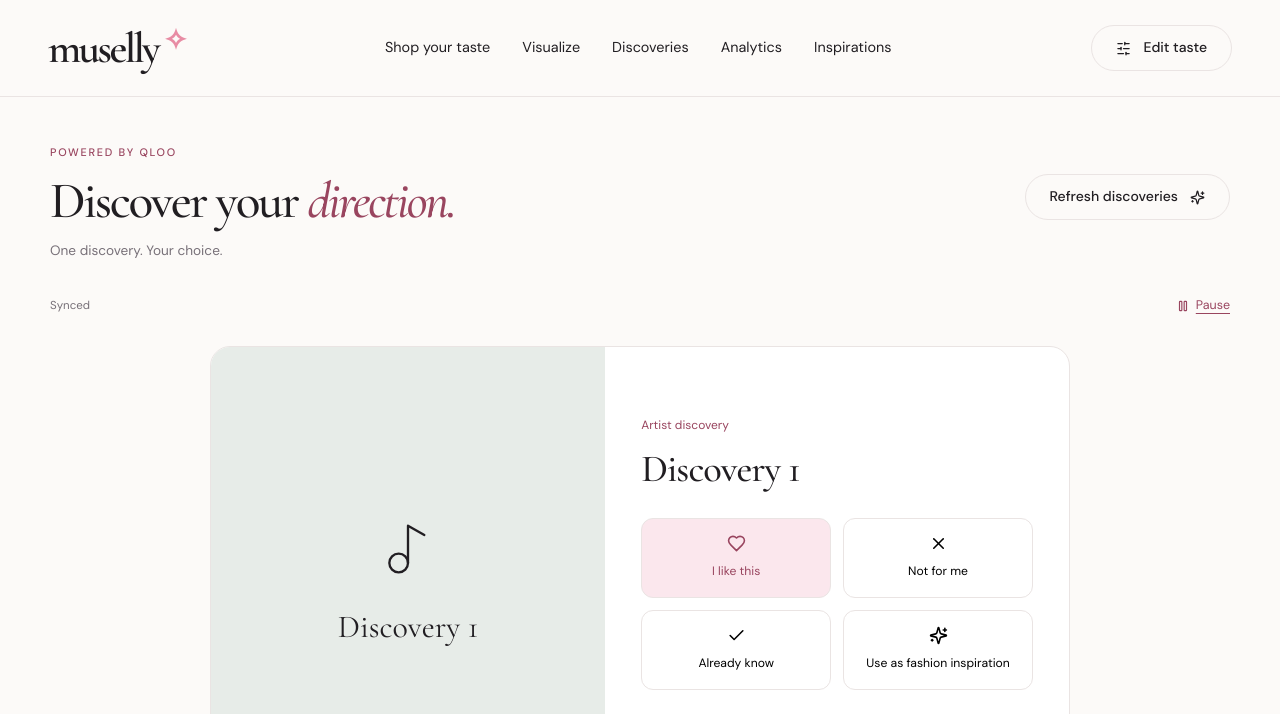
advances immediately after a durable local choice without waiting for the server
This screenshot has width=1280, height=714.
Step 1. Click the button "I like this" → (736,558), box [641,518,831,598]
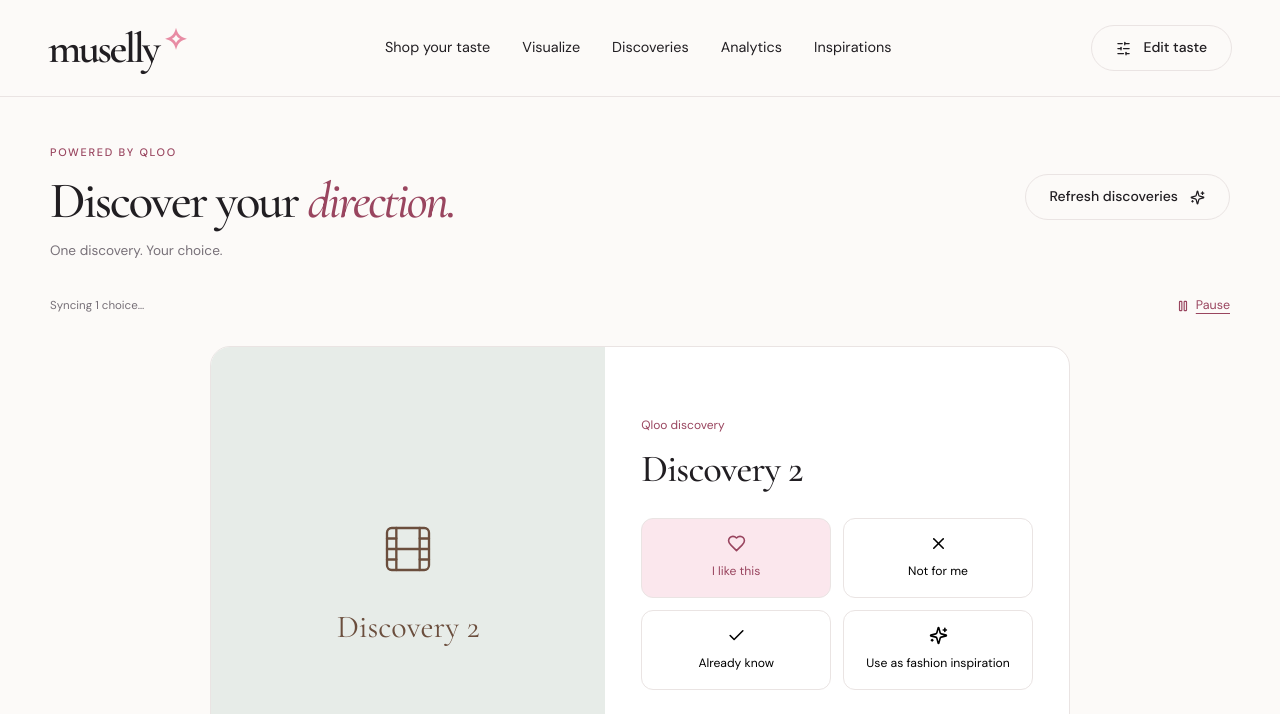
Result: the text "Discovery 2" is shown at [337,601,480,653]
